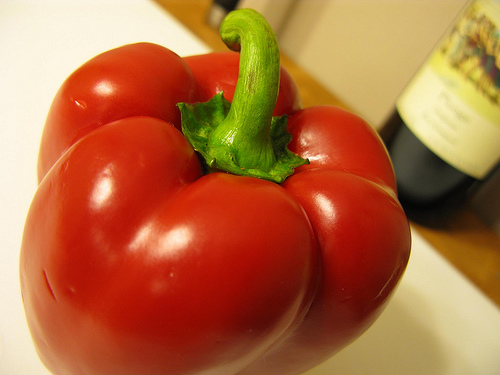capsicum: (19, 7, 412, 374)
